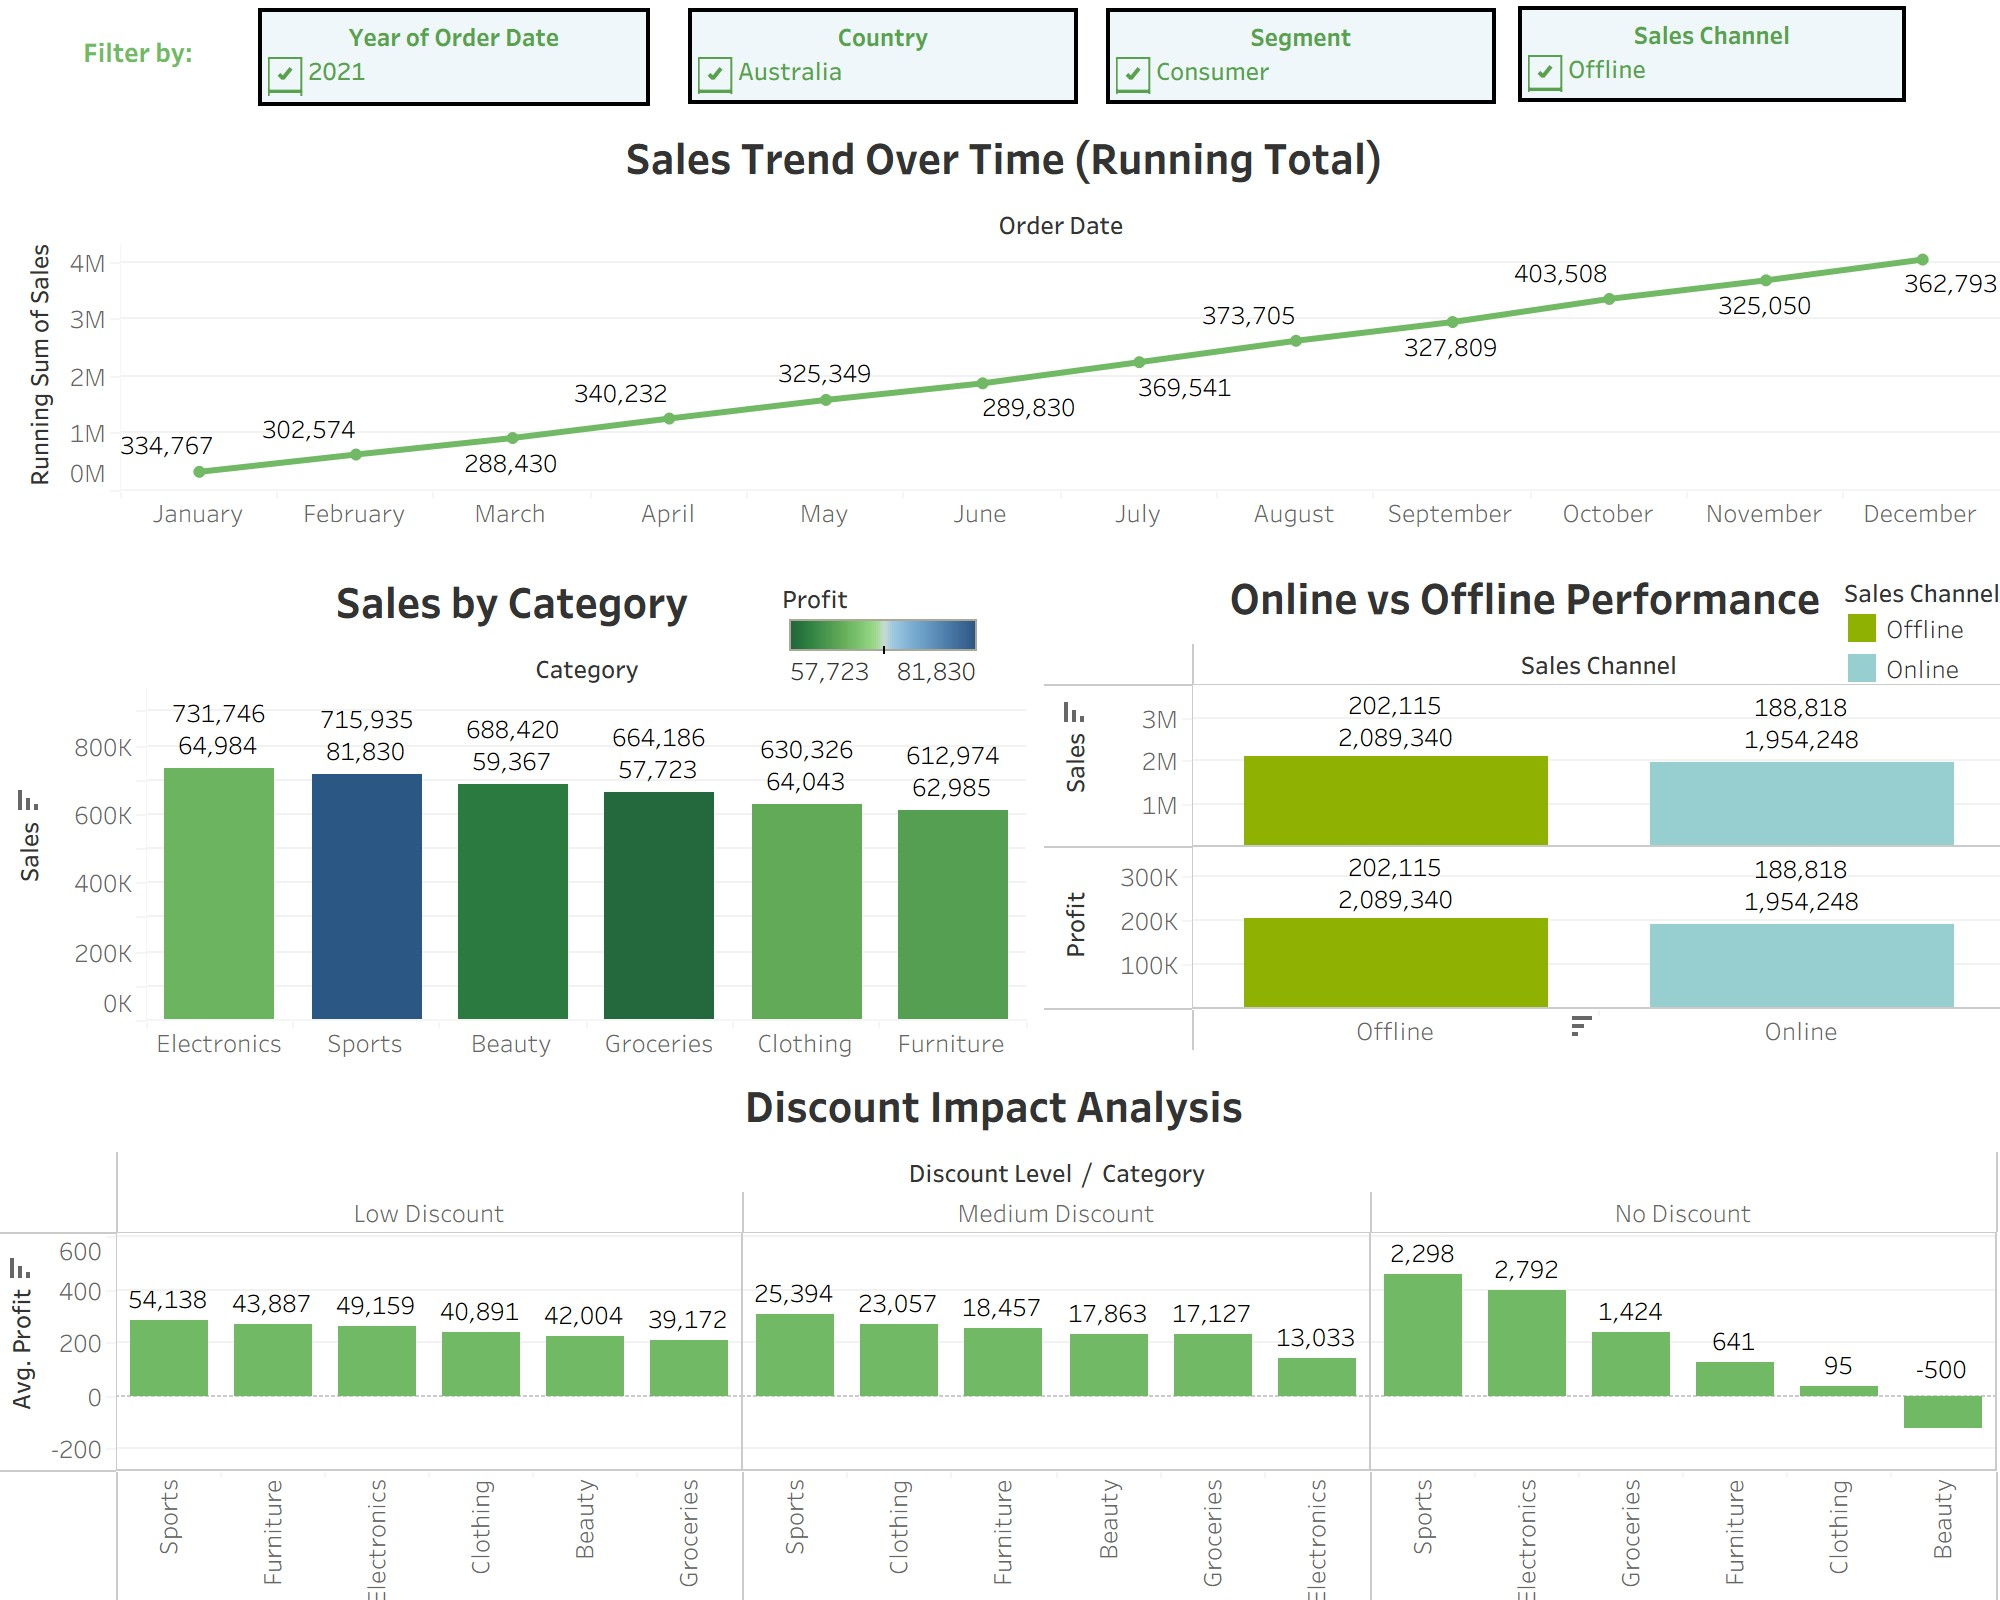

The dashboard page shown, as its layout file describes it:
{"tool":"tableau","page":{"name":"Dashboard 1","canvas":[1000,800],"ordinal":0},"visuals":[{"type":"filter","title":"Sales by Category","param":"[federated.1x05io607tdds11eita1b03609m7].[none:Segment:nk]","box":[560,2,154,65]},{"type":"filter","title":"Sales by Category","param":"[federated.1x05io607tdds11eita1b03609m7].[none:Sales_Channel:nk]","box":[752,2,154,65]},{"type":"text","box":[15,4,108,74]},{"type":"filter","title":"Sales by Category","param":"[federated.1x05io607tdds11eita1b03609m7].[yr:Order_Date:ok]","box":[157,4,152,61]},{"type":"filter","title":"Sales by Category","param":"[federated.1x05io607tdds11eita1b03609m7].[none:Country:nk]","box":[364,4,151,62]},{"type":"worksheet","title":"Running Total Sale Trend Over Time","mark":"Automatic","rows":["Sales"],"cols":["Order_Date"],"box":[0,67,996,212]},{"type":"legend","title":"Online vs Offline Performance","param":"[federated.1x05io607tdds11eita1b03609m7].[none:Sales_Channel:nk]","box":[921,286,80,59]},{"type":"legend","title":"Sales by Category","param":"[federated.1x05io607tdds11eita1b03609m7].[sum:Profit:qk]","box":[388,291,102,57]},{"type":"worksheet","title":"Online vs Offline Performance","mark":"Automatic","rows":["Sales","Profit"],"cols":["Sales_Channel"],"box":[544,291,453,244]},{"type":"worksheet","title":"Discount Impact Analysis","mark":"Automatic","rows":["Profit"],"cols":["Calculation_1776586810421249","Category"],"box":[5,528,990,273]}]}

Visuals, with their boxes in screenshot pixels (x1, y1, x2, y2), scaled from the page's 1000x800 canvas onto the 2000x1600 screenshot:
"Sales by Category" filter: 1120:4:1428:134
"Sales by Category" filter: 1504:4:1812:134
text: 30:8:246:156
"Sales by Category" filter: 314:8:618:130
"Sales by Category" filter: 728:8:1030:132
"Running Total Sale Trend Over Time" worksheet: 0:134:1992:558
"Online vs Offline Performance" legend: 1842:572:1999:690
"Sales by Category" legend: 776:582:980:696
"Online vs Offline Performance" worksheet: 1088:582:1994:1070
"Discount Impact Analysis" worksheet: 10:1056:1990:1599
